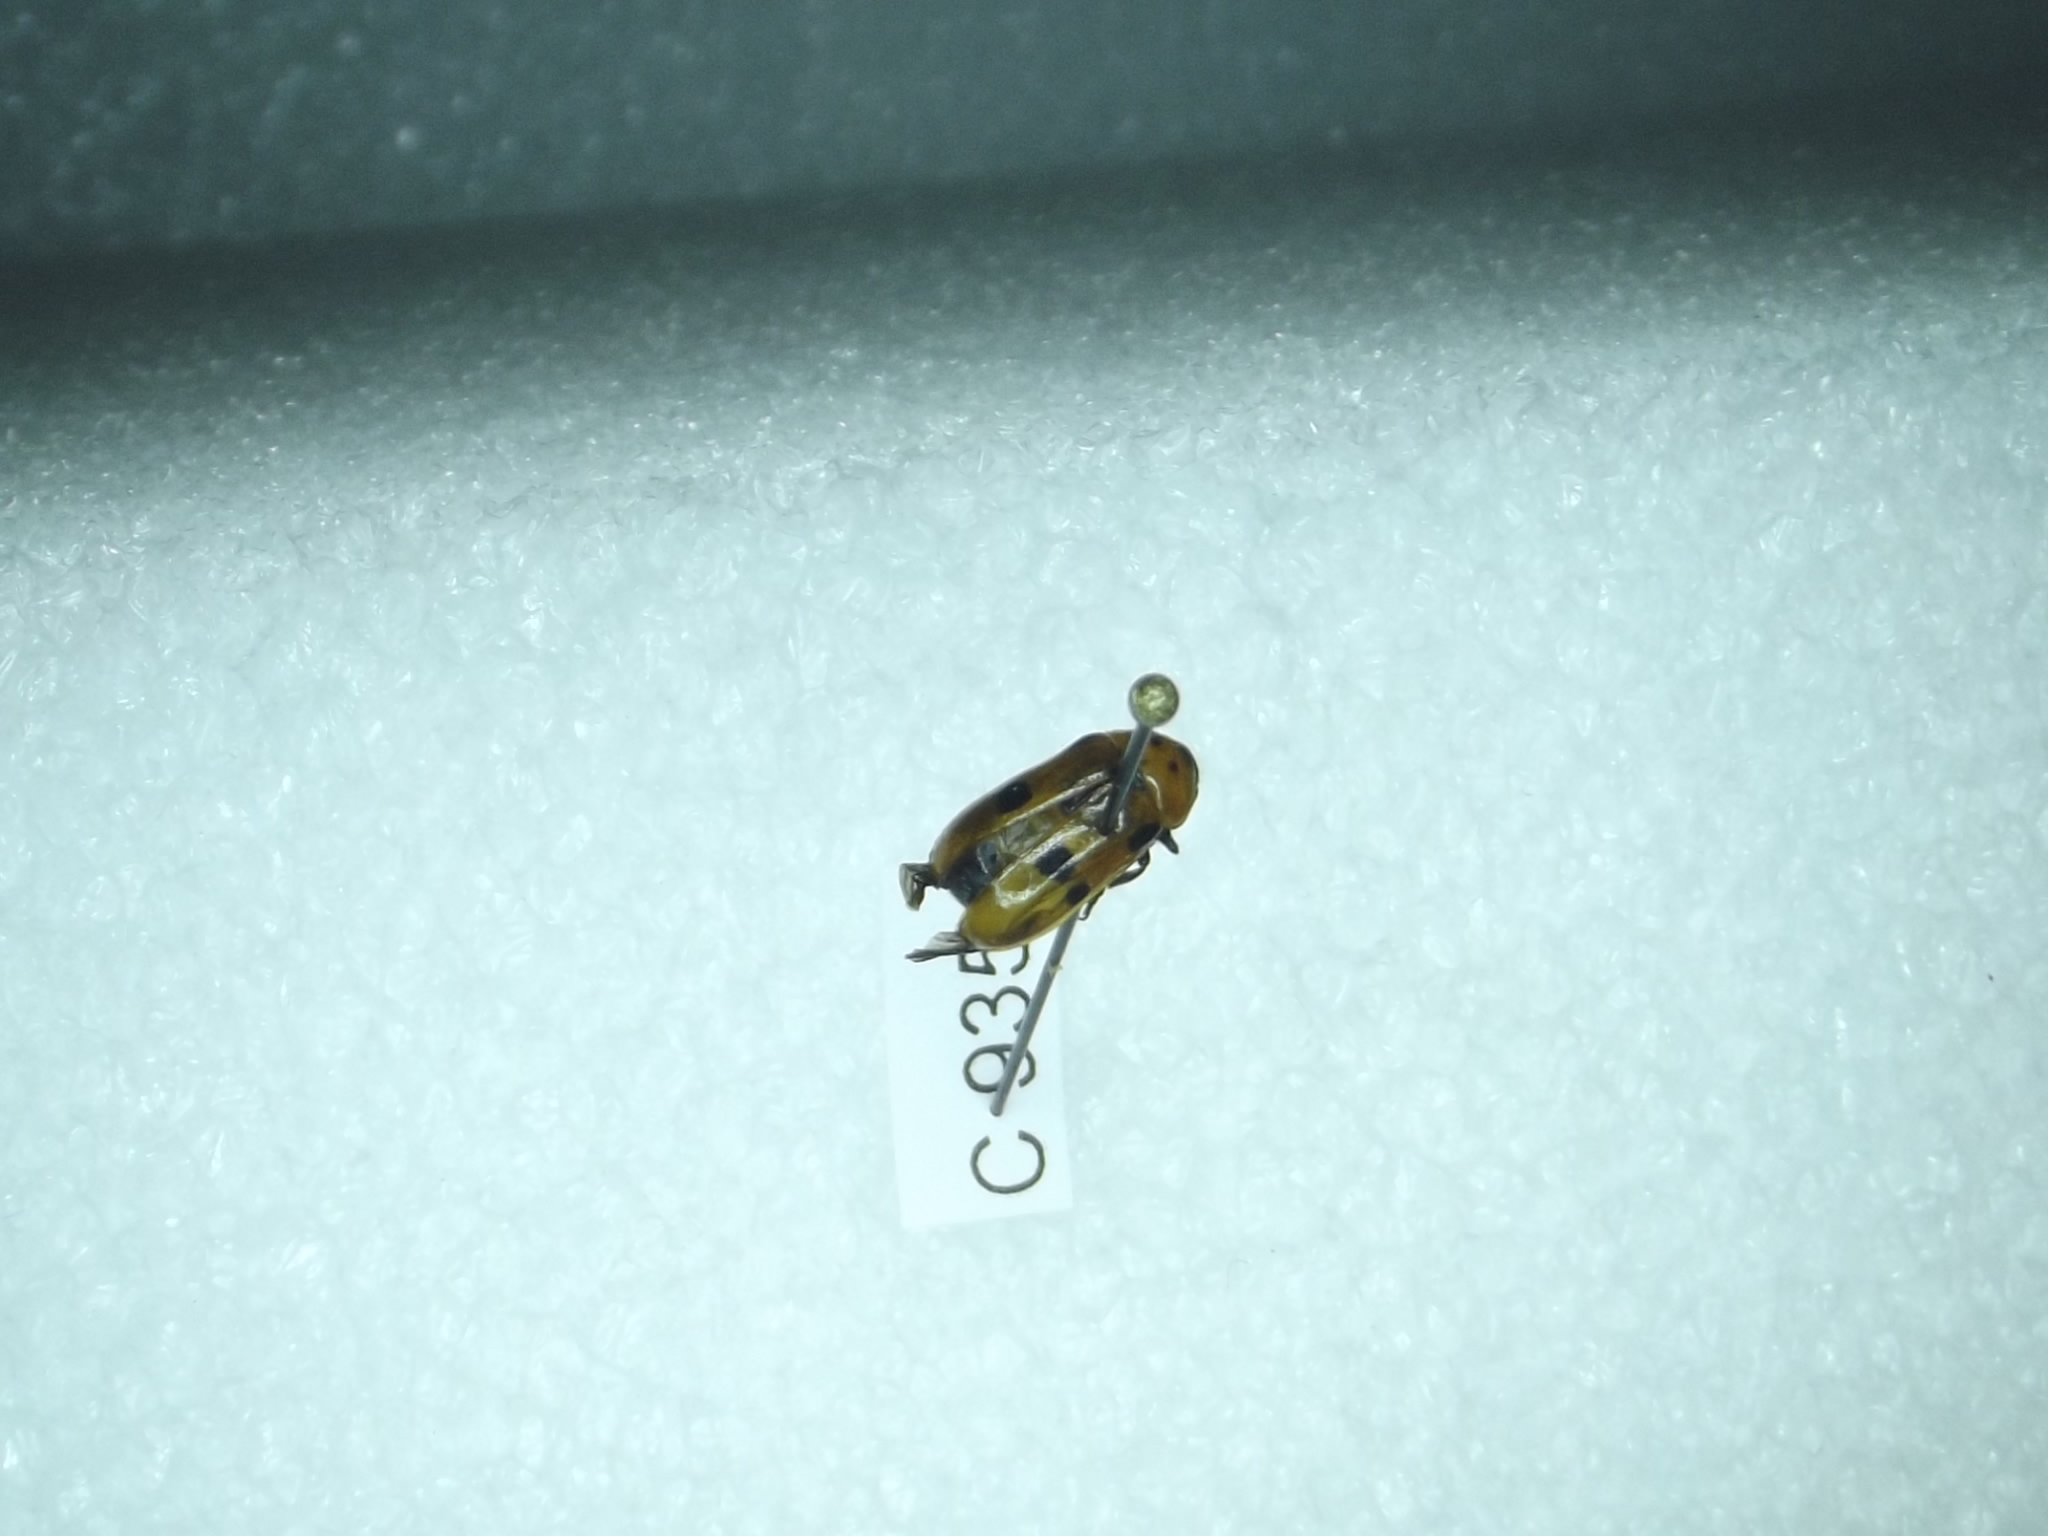Clytra_novempunctata: (890, 718, 1209, 975)
